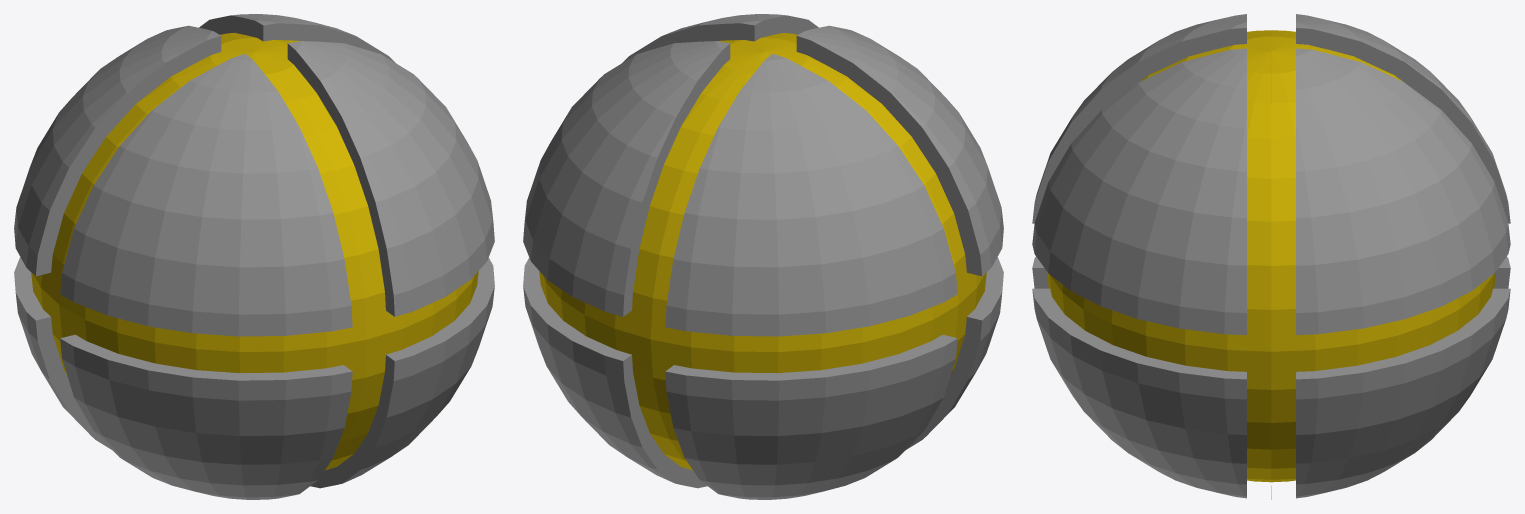
The model's file is Cyber-Tennisball.obj.
3 renders of one model, left to right at view 1: azimuth 30°, elevation 25°; view 2: azimuth 150°, elevation 25°; view 3: azimuth 270°, elevation 25°, orthographic.
Visible parts, largest first — view 1: Octa-Sphere_Sphere, Inner-Sphere_Sphere.001; view 2: Octa-Sphere_Sphere, Inner-Sphere_Sphere.001; view 3: Octa-Sphere_Sphere, Inner-Sphere_Sphere.001.
Boxes of the visible parts, <box> form: Octa-Sphere_Sphere: <box>14,14,494,499</box>; Inner-Sphere_Sphere.001: <box>31,32,478,470</box>; Octa-Sphere_Sphere: <box>523,14,1003,499</box>; Inner-Sphere_Sphere.001: <box>539,32,986,470</box>; Octa-Sphere_Sphere: <box>1032,14,1510,499</box>; Inner-Sphere_Sphere.001: <box>1047,30,1495,482</box>.
Bounding box in the file's own units: 1.96 × 1.98 × 1.96.
